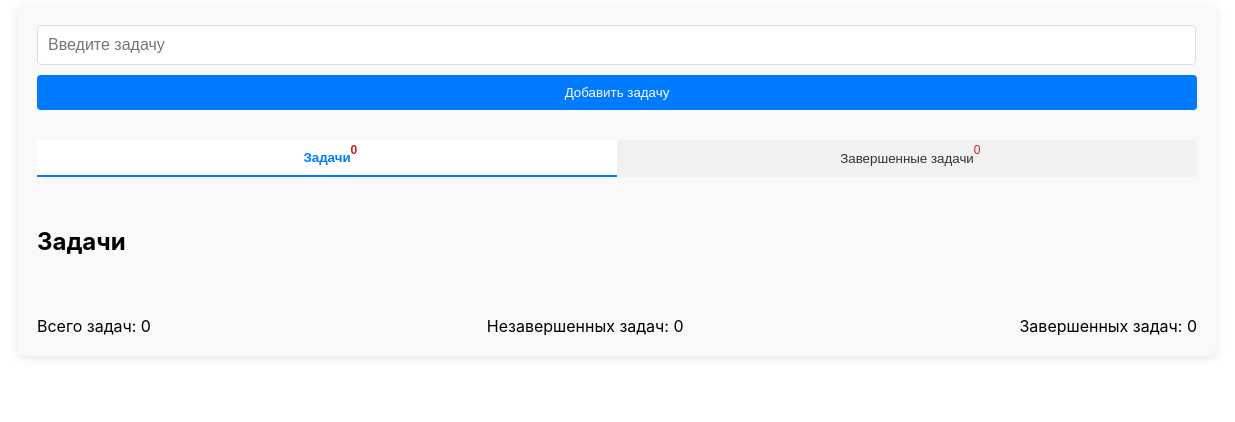
Test: ToDoList Component › should add a task
In the field with placeholder "Введите задачу": (616, 45) 37,25 -> 1196,65, type "Новая задача"
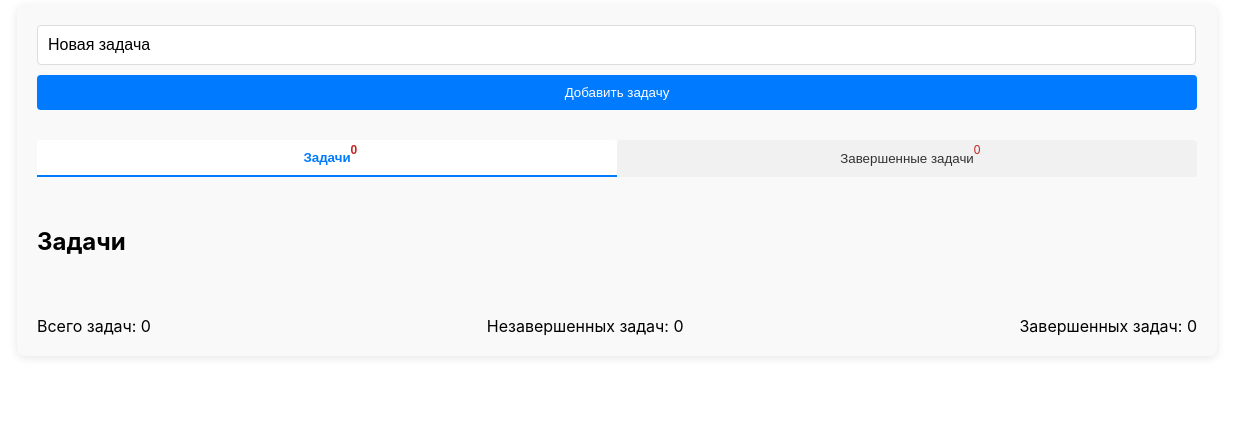
Click the button "Добавить задачу": (617, 92) 37,75 -> 1197,110
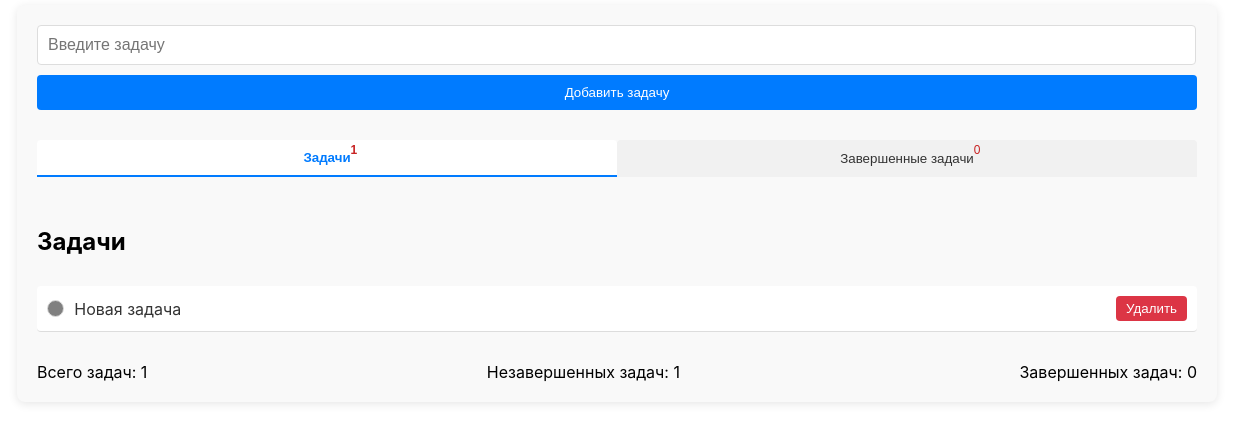
expect the text "Новая задача" is shown: met, box 74,298 -> 181,318
expect the field with placeholder "Введите задачу" is empty: met, box 37,25 -> 1196,65
